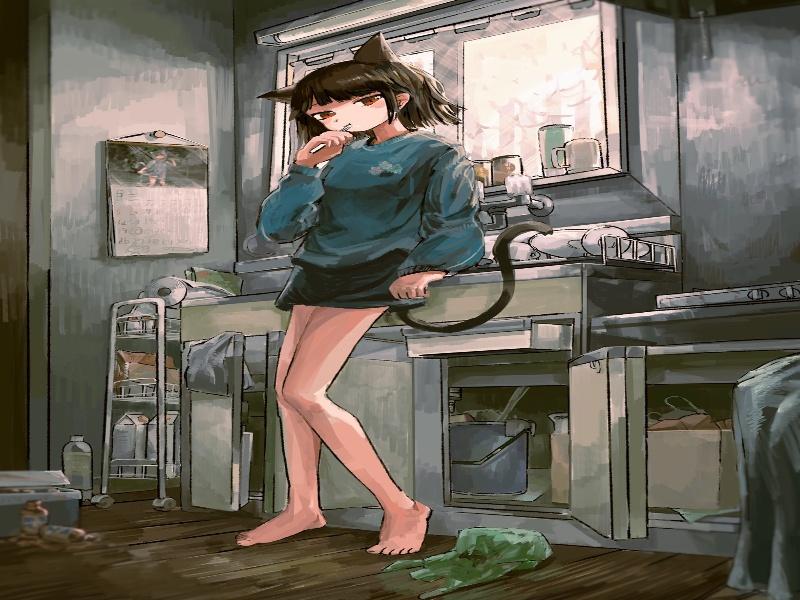person: (297, 86, 416, 144)
